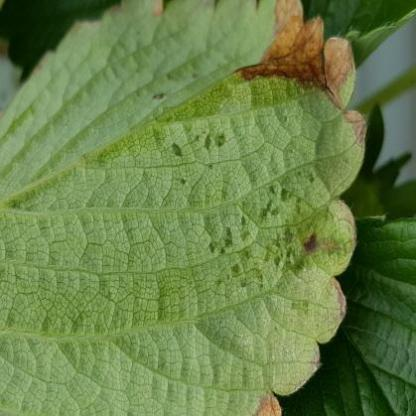Strawberry_Angular_LeafSpot: (141, 0, 368, 415)
